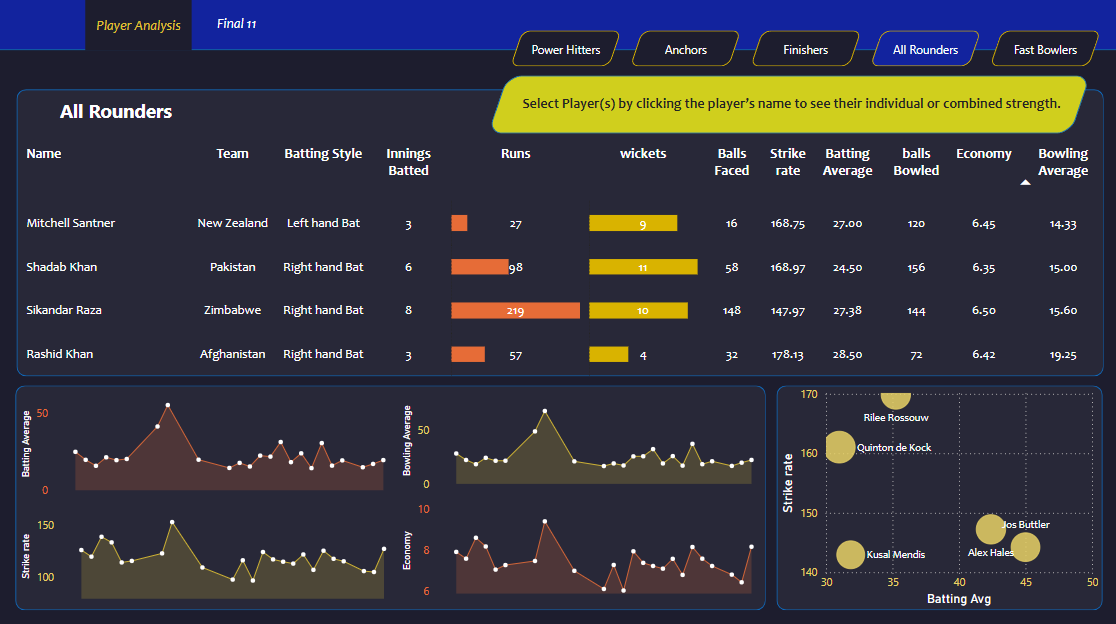

The page's visual inventory and layout, read from the dashboard file:
{"tool":"powerbi","page":{"name":"All Rounders","canvas":[1280,720],"ordinal":3},"visuals":[{"type":"shape","box":[0,57.9,1280,659.9],"z":0},{"type":"shape","box":[19.3,105,1242.6,328.2],"z":1000},{"type":"shape","box":[558.6,88.1,688.9,66.4],"z":2000},{"type":"card","fields":{"Values":["Key_measures.Strike rate"]},"box":[742,78.4,148.4,80],"z":3000},{"type":"card","fields":{"Values":["Key_measures.Batting Avg"]},"box":[929,77.2,139,80.8],"z":4000},{"type":"card","fields":{"Values":["Key_measures.Boundary %"]},"box":[844,76,132.7,85],"z":5000},{"type":"card","fields":{"Values":["Key_measures.Economy"]},"box":[1019.4,77.2,124.3,82],"z":6000},{"type":"textbox","box":[63.9,108,261.8,49.5],"z":7000},{"type":"tableEx","fields":{"Values":["player_info.name","player_info.team","player_info.battingStyle","Key_measures.Total Innings Batted","Key_measures.Total Runs","Key_measures.wickets","Key_measures.Balls Faced","Key_measures.Strike rate","Key_measures.Batting Avg","Key_measures.balls Bowled","Key_measures.Economy","Key_measures.Bowling Average"]},"box":[19.3,147.2,1260.7,295.6],"z":8000},{"type":"shape","box":[887.9,442.8,372.8,257],"z":9000},{"type":"shape","box":[18.1,442.8,857.8,257],"z":10000},{"type":"scatterChart","fields":{"Category":["player_info.name"],"X":["Key_measures.Batting Avg"],"Y":["Key_measures.Strike rate"],"Size":["Key_measures.Boundary %"]},"box":[887.9,437.9,372.8,261.8],"z":11000},{"type":"areaChart","fields":{"Category":["match_summary.matchDate.Variation.Date Hierarchy.Day"],"Y":["Key_measures.Batting Avg"]},"box":[19.3,442.8,481.4,133.9],"z":12000},{"type":"areaChart","fields":{"Category":["match_summary.matchDate.Variation.Date Hierarchy.Day"],"Y":["Key_measures.Bowling Average"]},"box":[456,442.8,464.5,126.7],"z":13000},{"type":"areaChart","fields":{"Category":["match_summary.matchDate.Variation.Date Hierarchy.Day"],"Y":["Key_measures.Strike rate"]},"box":[19.3,576.7,481.4,114.6],"z":14000},{"type":"areaChart","fields":{"Category":["match_summary.matchDate.Variation.Date Hierarchy.Day"],"Y":["Key_measures.Economy"]},"box":[456,569.4,464.5,121.9],"z":15000},{"type":"actionButton","box":[98.9,0,121.9,60.3],"z":16000},{"type":"actionButton","box":[220.8,0,100.1,57.9],"z":17000},{"type":"shape","box":[587.5,88.1,154.4,66.4],"z":18000},{"type":"card","fields":{"Values":["Key_measures.wickets"]},"box":[1094.2,77.2,124.3,82],"z":19000},{"type":"shape","box":[564.6,86.9,682.8,66.4],"z":20000},{"type":"pageNavigator","box":[583.9,37.4,676.8,41],"z":21000}]}

Visuals, with their boxes in screenshot pixels (x1, y1, x2, y2), scaled from the page's 1280x720 canvas onto the 1116x624 screenshot:
shape: crop(0, 50, 1115, 622)
shape: crop(17, 91, 1100, 375)
shape: crop(487, 76, 1088, 134)
card - Key_measures.Strike rate: crop(647, 68, 776, 137)
card - Key_measures.Batting Avg: crop(810, 67, 931, 137)
card - Key_measures.Boundary %: crop(736, 66, 852, 140)
card - Key_measures.Economy: crop(889, 67, 997, 138)
textbox: crop(56, 94, 284, 136)
tableEx - player_info.name x player_info.team: crop(17, 128, 1115, 384)
shape: crop(774, 384, 1099, 606)
shape: crop(16, 384, 764, 606)
scatterChart - player_info.name x Key_measures.Batting Avg: crop(774, 380, 1099, 606)
areaChart - match_summary.matchDate.Variation.Date Hierarchy.Day x Key_measures.Batting Avg: crop(17, 384, 437, 500)
areaChart - match_summary.matchDate.Variation.Date Hierarchy.Day x Key_measures.Bowling Average: crop(398, 384, 803, 494)
areaChart - match_summary.matchDate.Variation.Date Hierarchy.Day x Key_measures.Strike rate: crop(17, 500, 437, 599)
areaChart - match_summary.matchDate.Variation.Date Hierarchy.Day x Key_measures.Economy: crop(398, 493, 803, 599)
actionButton: crop(86, 0, 193, 52)
actionButton: crop(193, 0, 280, 50)
shape: crop(512, 76, 647, 134)
card - Key_measures.wickets: crop(954, 67, 1062, 138)
shape: crop(492, 75, 1088, 133)
pageNavigator: crop(509, 32, 1099, 68)
